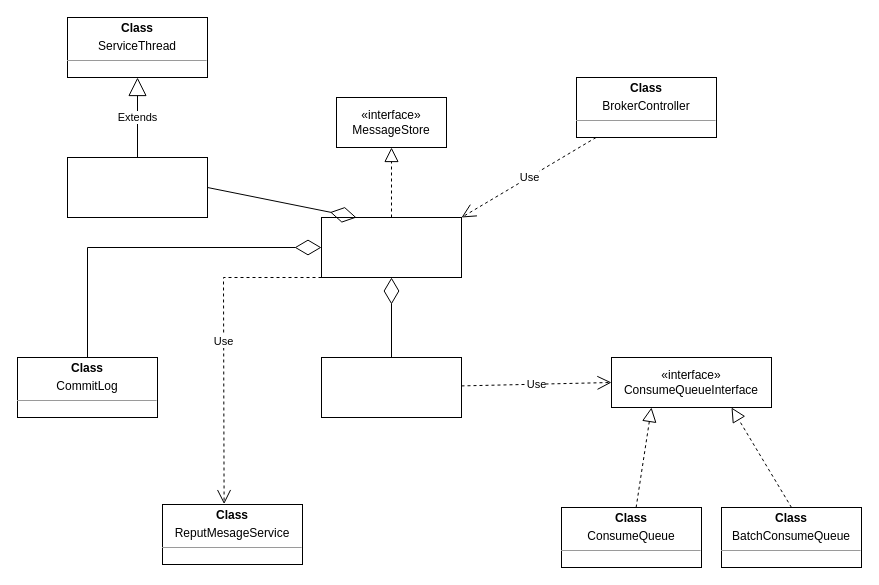
This 879x585 diagram has some shape labels left out. The centre of each missing label's shape, as x and y in pixels:
Class ConsumeQueueStore: pixel 391 387
Class DefaultMessageStore: pixel 391 247
Class ReputMessageService: pixel 137 187
